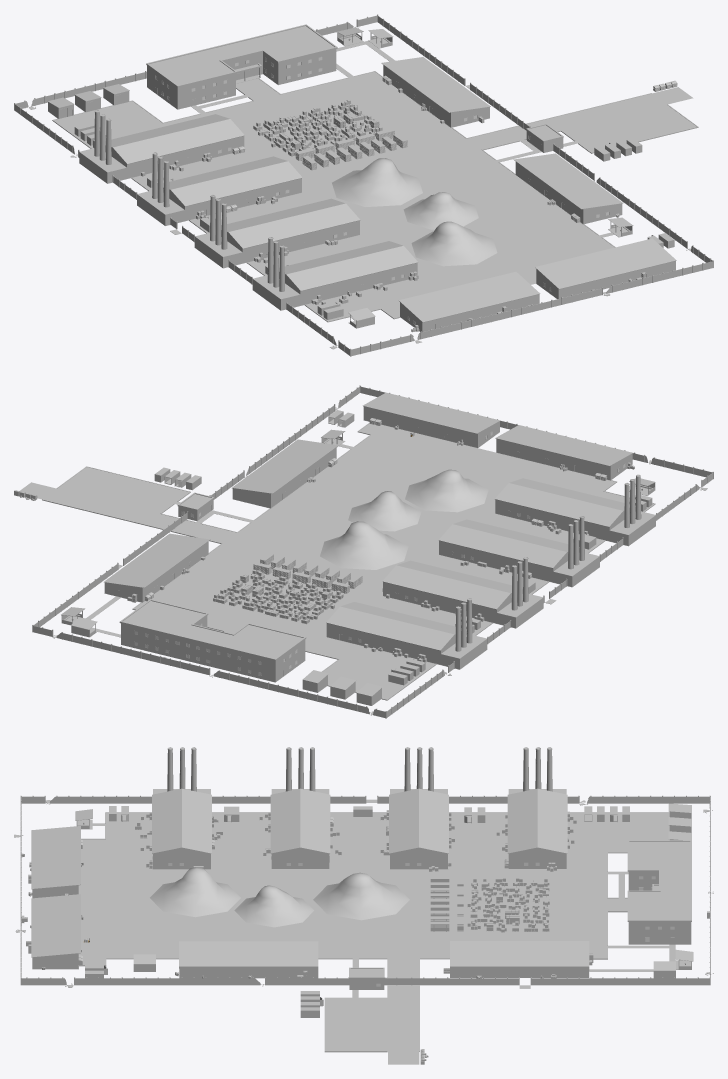
File: Zavod.fbx
3 renders of one model, top to bottom at view 1: azimuth 30°, elevation 25°; view 2: azimuth 150°, elevation 25°; view 3: azimuth 270°, elevation 25°, orthographic. The views are drawn at different scales.
Parts seen in each view (by area): view 1: Plane.005, ZavodB.011, Parking, Zavod.005, Zavod.001, Group 6.019, Group 6.008, Group 6.012, Group 6.002, Group 6.004, Group 6.006, ZavodB.013 (+14 smaller); view 2: Plane.005, ZavodB.011, Parking, Zavod.005, Zavod.001, Group 6.002, ZavodB, Group 6.019, Group 6.006, Group 6.004, ZavodB.002, ZavodB.001 (+13 smaller); view 3: Plane.005, ZavodB.011, Parking, Zavod.005, Group 6.002, Group 6.006, Group 6.010, Group 6.014, Group 6.004, Group 6.019, Cylinder.002, Group 6.012 (+12 smaller).
Part boxes in pixels (box(x1,y1,x2,y2)): Plane.005: box(54, 71, 614, 320); ZavodB.011: box(14, 14, 713, 356); Parking: box(526, 87, 696, 152); Zavod.005: box(146, 24, 337, 87); Zavod.001: box(147, 49, 336, 109); Group 6.019: box(279, 241, 418, 290); Group 6.008: box(398, 272, 540, 322); Group 6.012: box(535, 238, 676, 289); Group 6.002: box(105, 114, 244, 164); Group 6.004: box(163, 156, 302, 206); Group 6.006: box(221, 198, 360, 248); ZavodB.013: box(252, 237, 417, 310); Plane.005: box(134, 423, 653, 699); ZavodB.011: box(32, 385, 713, 718); Parking: box(20, 467, 188, 528); Zavod.005: box(119, 599, 306, 660); Zavod.001: box(121, 616, 305, 682); Group 6.002: box(326, 602, 466, 650); ZavodB: box(326, 598, 487, 669); Group 6.019: box(495, 478, 635, 526); Group 6.006: box(438, 519, 579, 568); Group 6.004: box(382, 560, 522, 609); ZavodB.002: box(439, 515, 599, 587); ZavodB.001: box(383, 557, 543, 628); Plane.005: box(79, 813, 669, 978); ZavodB.011: box(14, 795, 713, 988); Parking: box(325, 985, 419, 1064); Zavod.005: box(627, 840, 691, 921); Group 6.002: box(507, 788, 567, 853); Group 6.006: box(270, 788, 330, 853); Group 6.010: box(179, 941, 318, 966); Group 6.014: box(450, 941, 589, 966); Group 6.004: box(389, 788, 448, 853); Group 6.019: box(152, 788, 211, 853); Cylinder.002: box(313, 872, 409, 920); Group 6.012: box(31, 894, 80, 957).
Size of the model in its own units: 19986 by 2028 by 22325.
